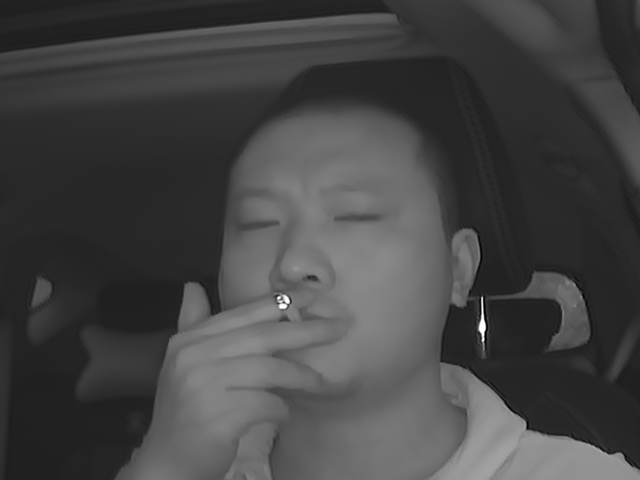hand: (183, 284, 344, 451)
